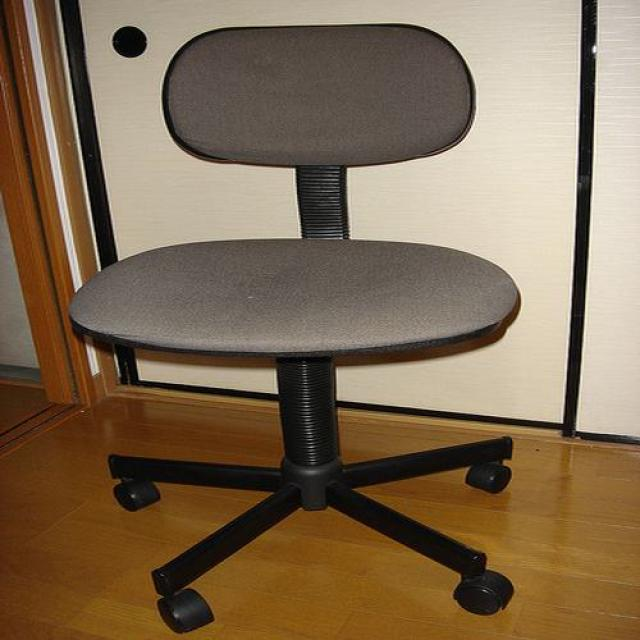swivelchair: (68, 24, 524, 636)
